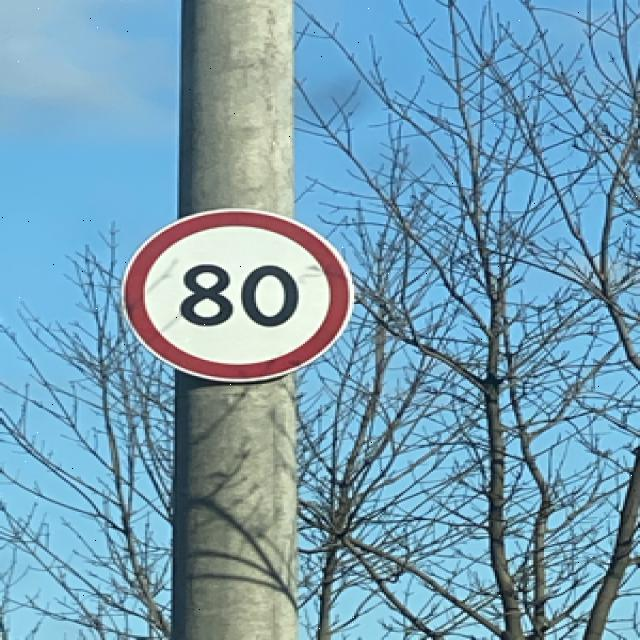speed limit 80: (121, 210, 351, 384)
